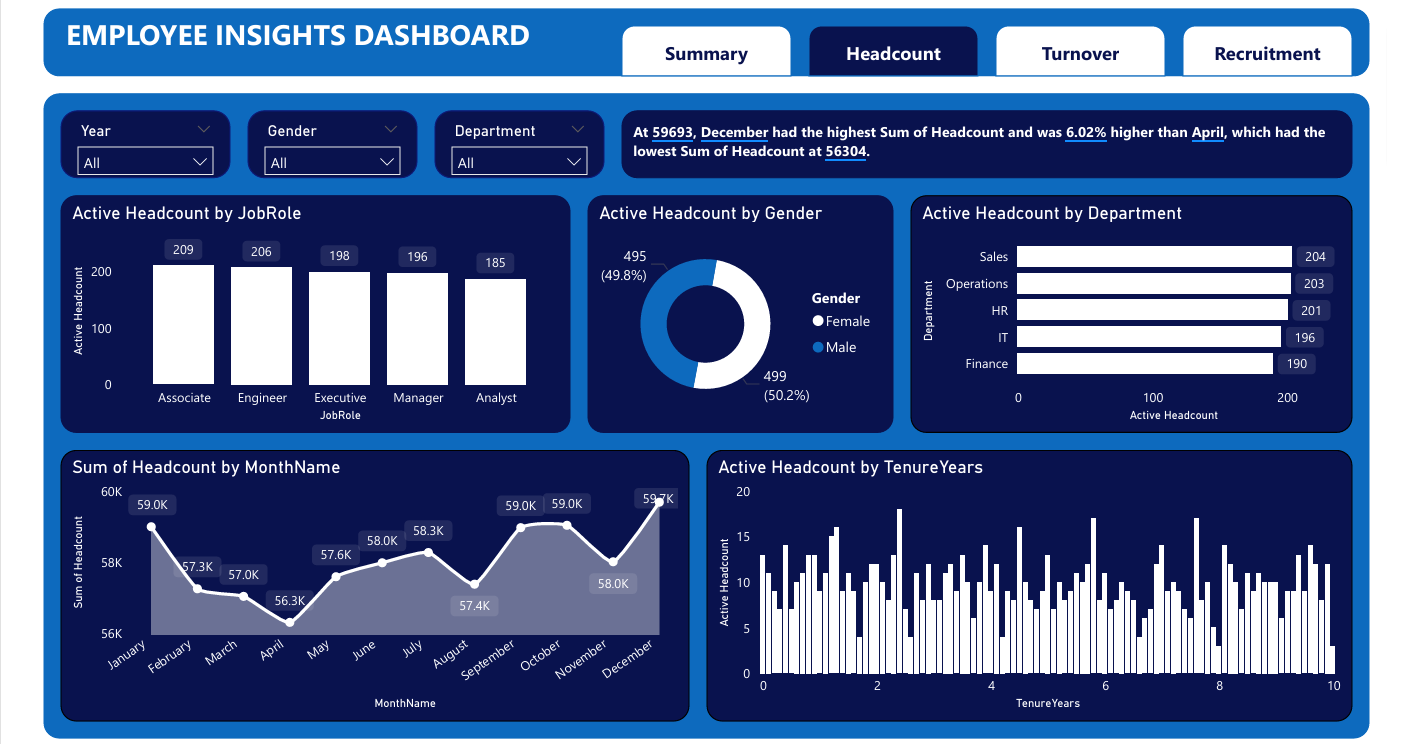

The dashboard page shown, as its layout file describes it:
{"tool":"powerbi","page":{"name":"Headcount","canvas":[1280,720],"ordinal":1},"visuals":[{"type":"shape","box":[16,16,1248,64],"z":0,"group":"g1"},{"type":"shape","box":[16,96,1248,608],"z":0},{"type":"group","id":"g1","title":"Group 1","box":[16,16,1248,64],"z":1000},{"type":"textbox","box":[32,16,496,64],"z":1000,"group":"g1"},{"type":"shape","box":[560,32,160,48],"z":2000,"group":"g1"},{"type":"clusteredBarChart","fields":{"Category":["Employee_Master.Department"],"Y":["Employee_Master.Active Headcount"]},"box":[832,192,416,224],"z":2000},{"type":"shape","box":[736,32,160,48],"z":3000,"group":"g1"},{"type":"columnChart","fields":{"Category":["Employee_Master.JobRole"],"Y":["Employee_Master.Active Headcount"]},"box":[32,192,480,224],"z":3000},{"type":"shape","box":[912,32,160,48],"z":4000,"group":"g1"},{"type":"donutChart","fields":{"Category":["Employee_Master.Gender"],"Y":["Employee_Master.Active Headcount"]},"box":[528,192,288,224],"z":4000},{"type":"shape","box":[1088,32,160,48],"z":5000,"group":"g1"},{"type":"clusteredColumnChart","fields":{"Category":["Employee_Master.TenureYears"],"Y":["Employee_Master.Active Headcount"]},"box":[640,432,608,256],"z":5000},{"type":"lineChart","fields":{"Category":["Headcount_Snapshot.MonthName"],"Y":["Sum(Headcount_Snapshot.Headcount)"]},"box":[32,432,592,256],"z":6000},{"type":"slicer","fields":{"Values":["Employee_Master.Gender"]},"box":[208,112,160,64],"z":7000},{"type":"slicer","fields":{"Values":["Employee_Master.Department"]},"box":[384,112,160,64],"z":8000},{"type":"textbox","box":[560,112,688,64],"z":9000},{"type":"slicer","fields":{"Values":["Headcount_Snapshot.Year"]},"box":[32,112,160,64],"z":10000}]}

Visuals, with their boxes on the page's 1280x720 design canvas (x1, y1, x2, y2). These are canvas units, not pixel positions in the 1409x744 screenshot, which may show the page scaled, cropped or inside an application window:
shape: 16/16/1264/80
shape: 16/96/1264/704
"Group 1" group: 16/16/1264/80
textbox: 32/16/528/80
shape: 560/32/720/80
clusteredBarChart - Employee_Master.Department x Employee_Master.Active Headcount: 832/192/1248/416
shape: 736/32/896/80
columnChart - Employee_Master.JobRole x Employee_Master.Active Headcount: 32/192/512/416
shape: 912/32/1072/80
donutChart - Employee_Master.Gender x Employee_Master.Active Headcount: 528/192/816/416
shape: 1088/32/1248/80
clusteredColumnChart - Employee_Master.TenureYears x Employee_Master.Active Headcount: 640/432/1248/688
lineChart - Headcount_Snapshot.MonthName x Sum(Headcount_Snapshot.Headcount): 32/432/624/688
slicer - Employee_Master.Gender: 208/112/368/176
slicer - Employee_Master.Department: 384/112/544/176
textbox: 560/112/1248/176
slicer - Headcount_Snapshot.Year: 32/112/192/176
